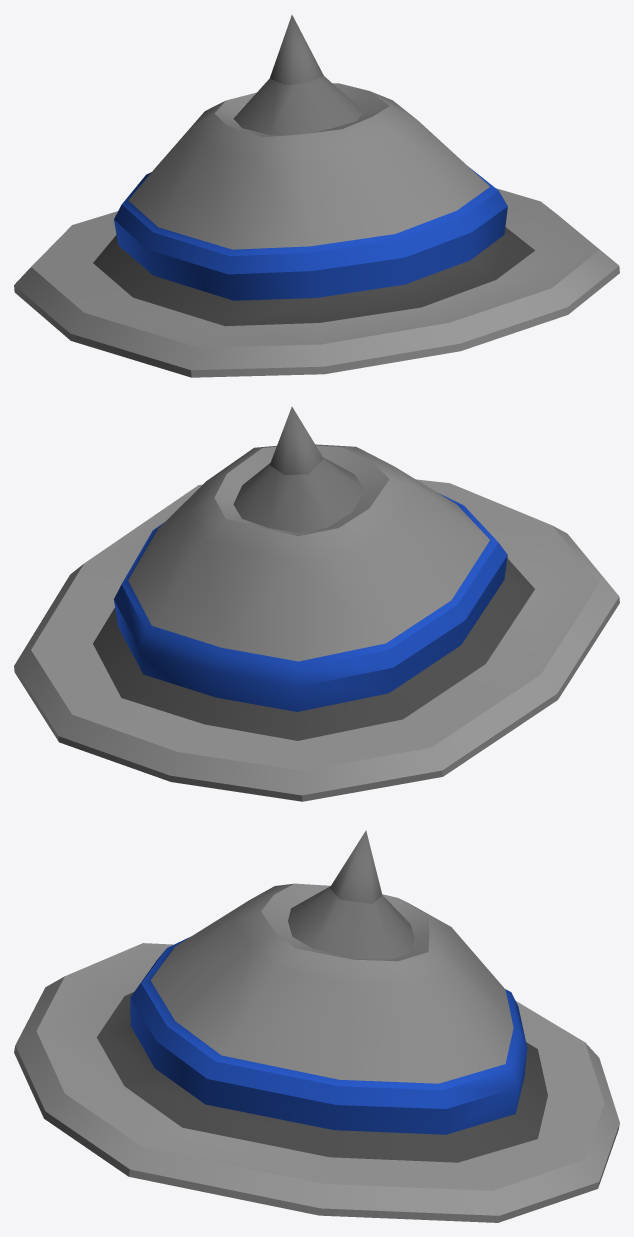
Rendered from HelmetBow_R3.fbx.
3 renders of one model, top to bottom at view 1: azimuth 30°, elevation 25°; view 2: azimuth 150°, elevation 25°; view 3: azimuth 270°, elevation 25°, orthographic. The views are drawn at different scales.
Parts seen in each view (by area): view 1: HelmetBow_R3; view 2: HelmetBow_R3; view 3: HelmetBow_R3.
Boxes of the visible parts, box(x1,y1,x2,y2) form: HelmetBow_R3: box(14, 15, 619, 377); HelmetBow_R3: box(14, 406, 619, 801); HelmetBow_R3: box(14, 830, 619, 1222).
Bounding box in the file's own units: 103 × 107 × 58.27.
Materials: 1 (1 with a texture image).
